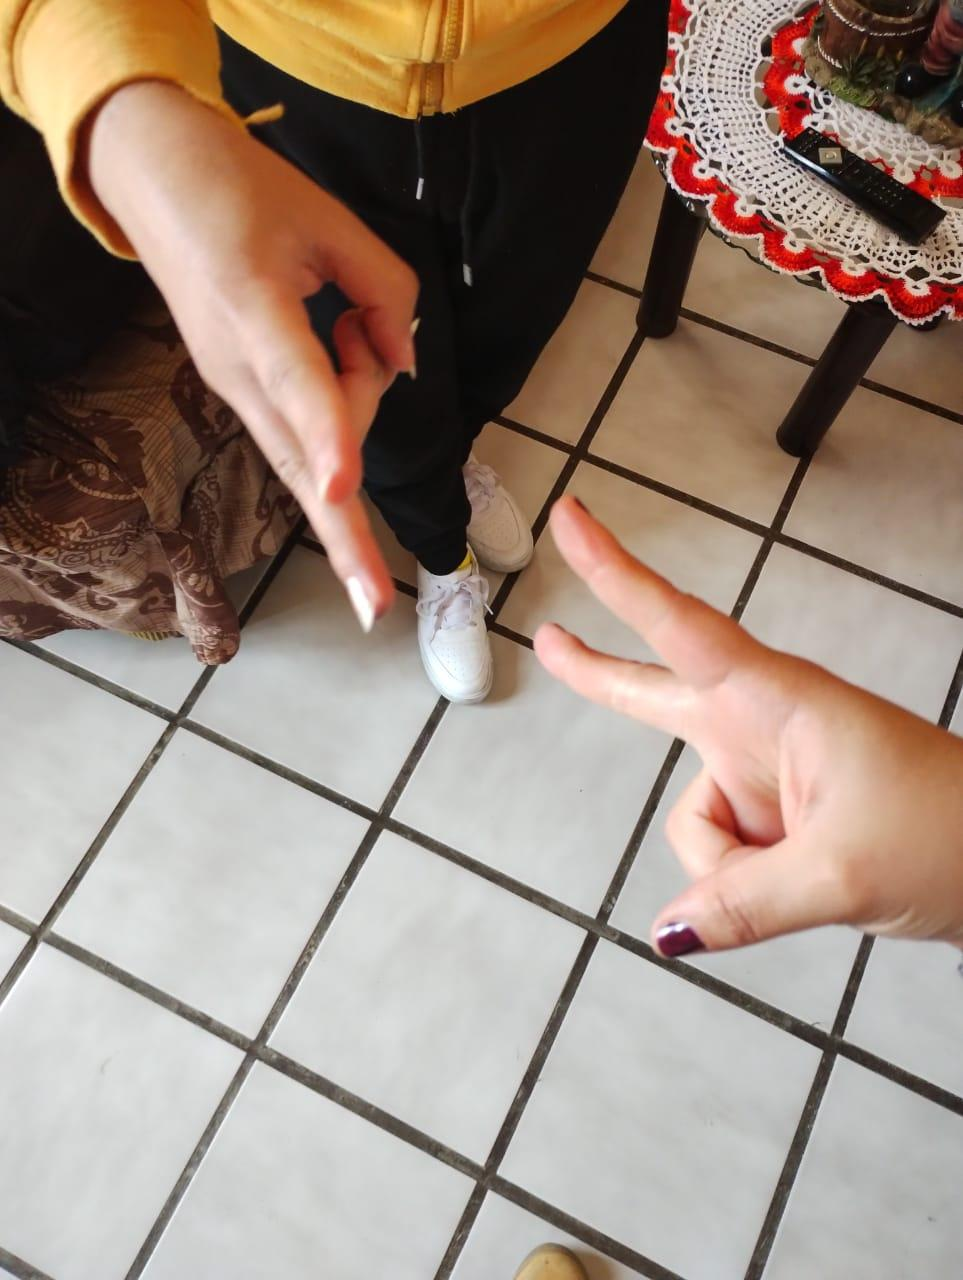Scissor: (0, 43, 483, 653), (497, 440, 963, 994)
